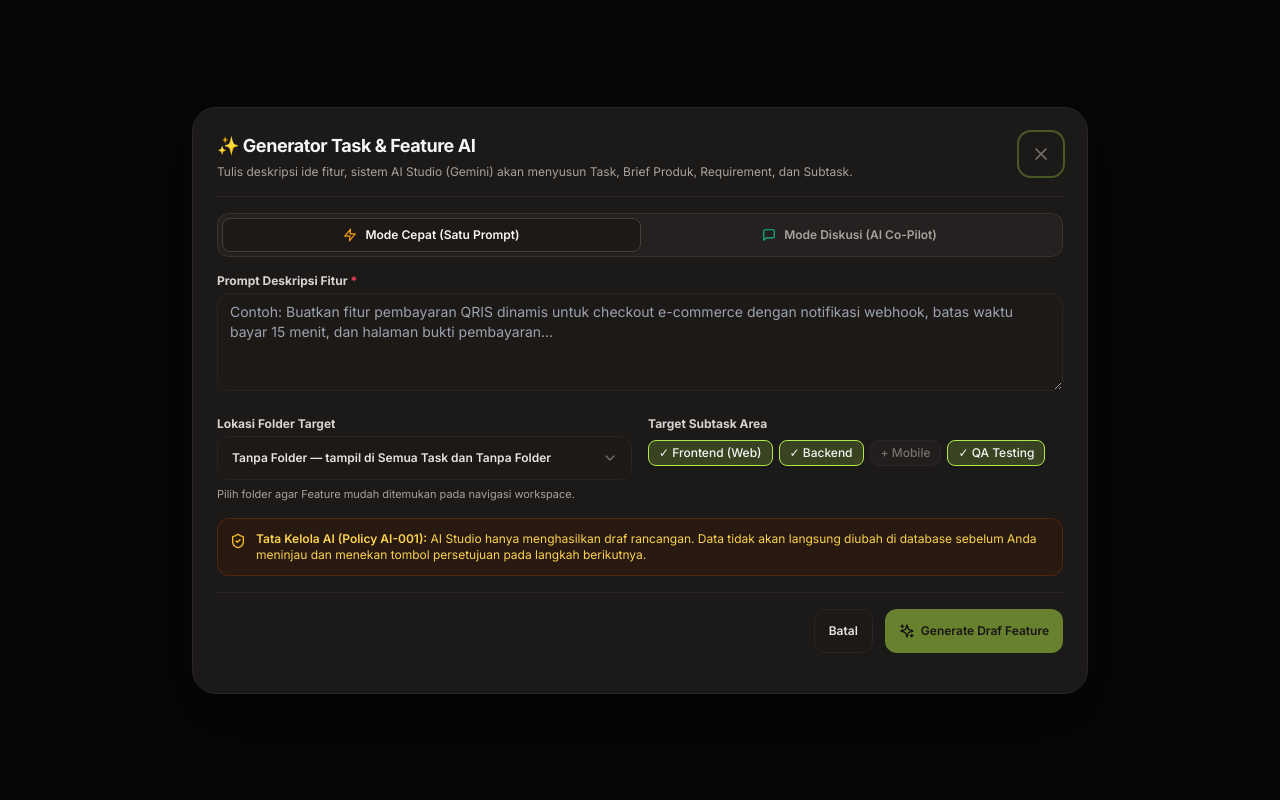
Scenario: AiTaskGeneratorModal Organism › disables apply button and shows warning banner when all subtasks are unchecked (AC-1.2)
The image size is (1280, 800).
Replace the text in the text box with placeholder "Contoh: Buatkan fitur pembayaran QRIS dinamis" with "Fitur pembayaran QRIS dinamis" at {"x": 640, "y": 342}, box left=217, top=292, right=1063, bottom=390
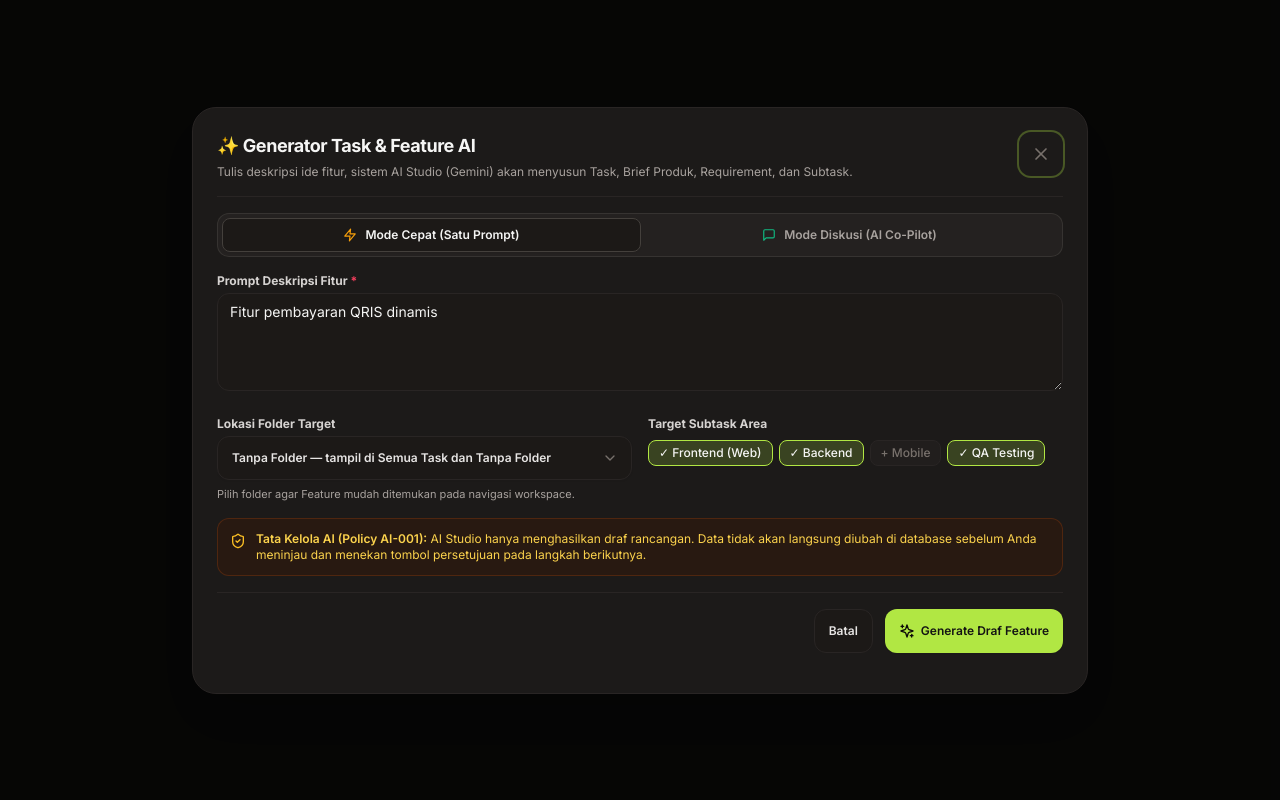
Click the button "Generate Draf Feature".
click(974, 630)  # box left=885, top=608, right=1063, bottom=652
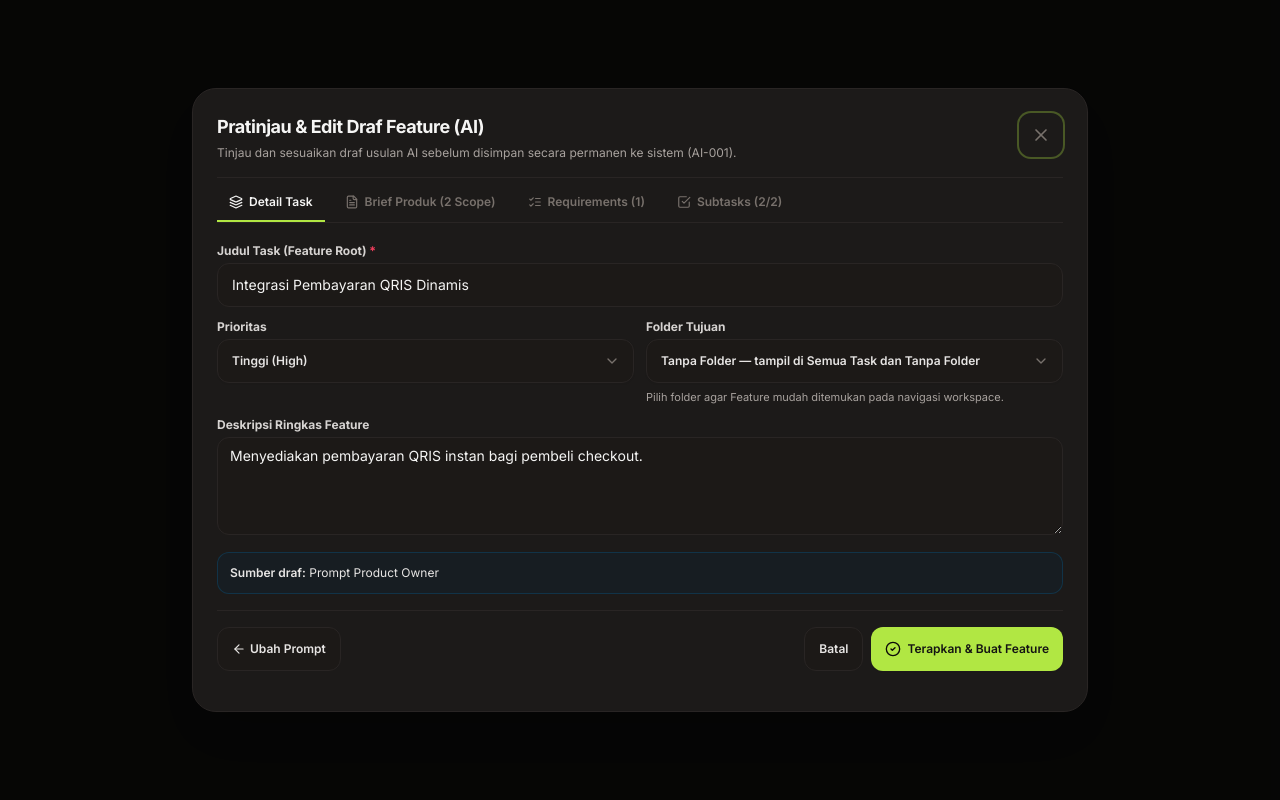
Now the heading "Pratinjau & Edit Draf Feature (AI)" is shown, box left=217, top=116, right=484, bottom=137
Note: Switch to Subtasks tab
Click the button "Subtasks (2/2)".
click(730, 208)  # box left=665, top=194, right=794, bottom=222
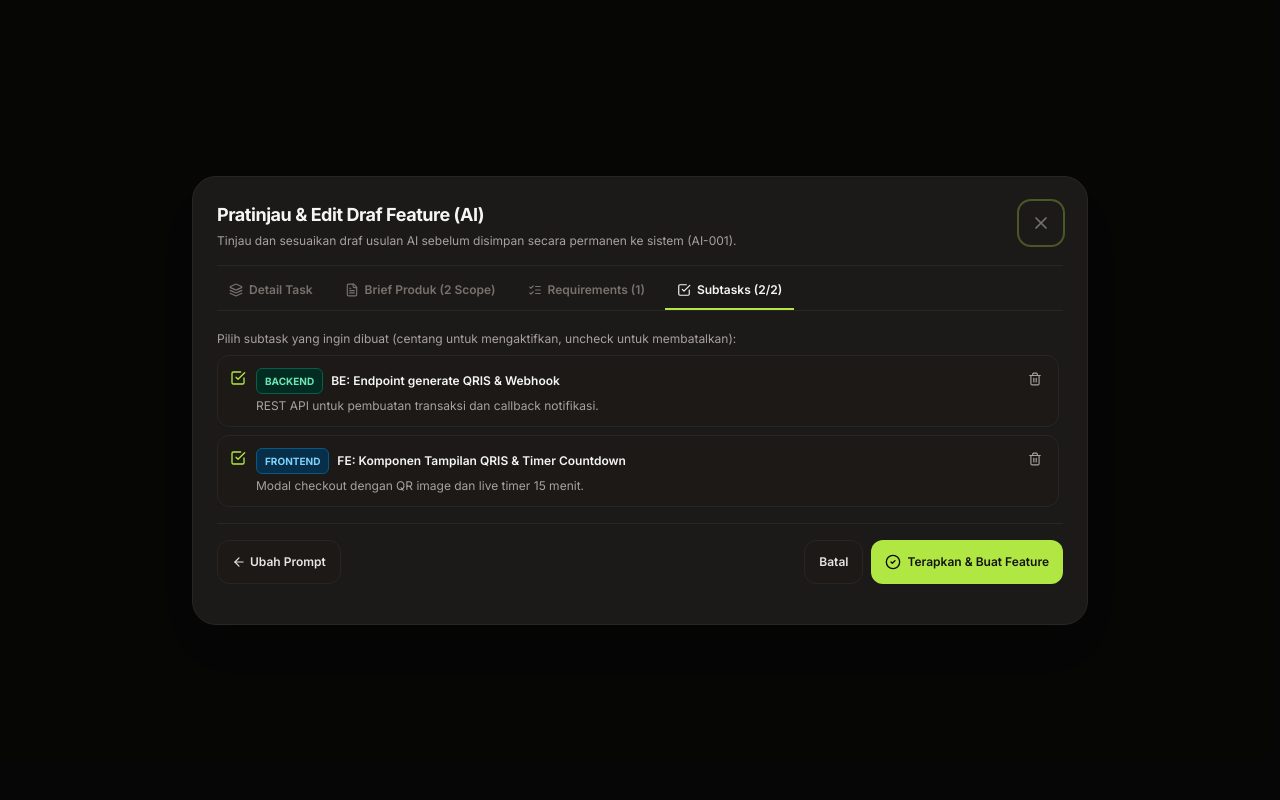
Click the button named "Toggle subtask 1".
click(238, 378)  # box left=230, top=370, right=246, bottom=386
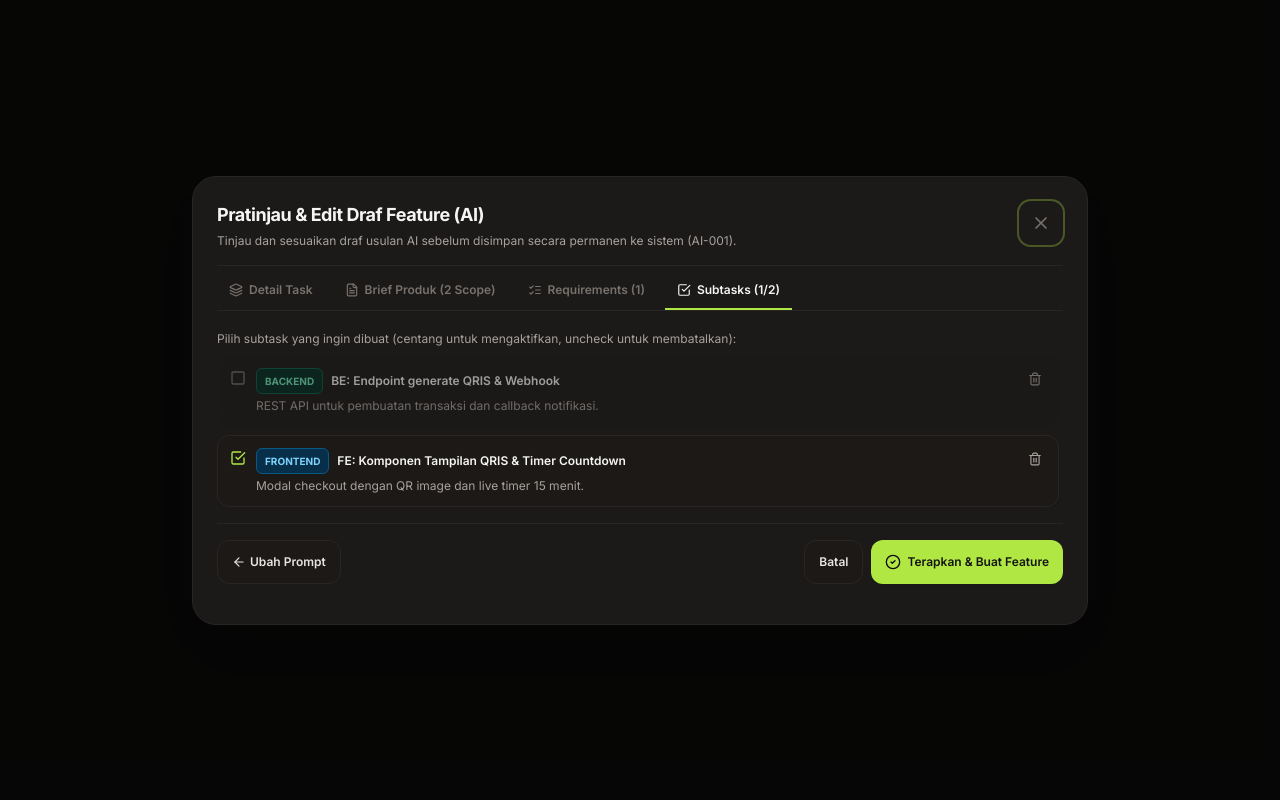
Click the button named "Toggle subtask 2".
click(238, 458)  # box left=230, top=450, right=246, bottom=466
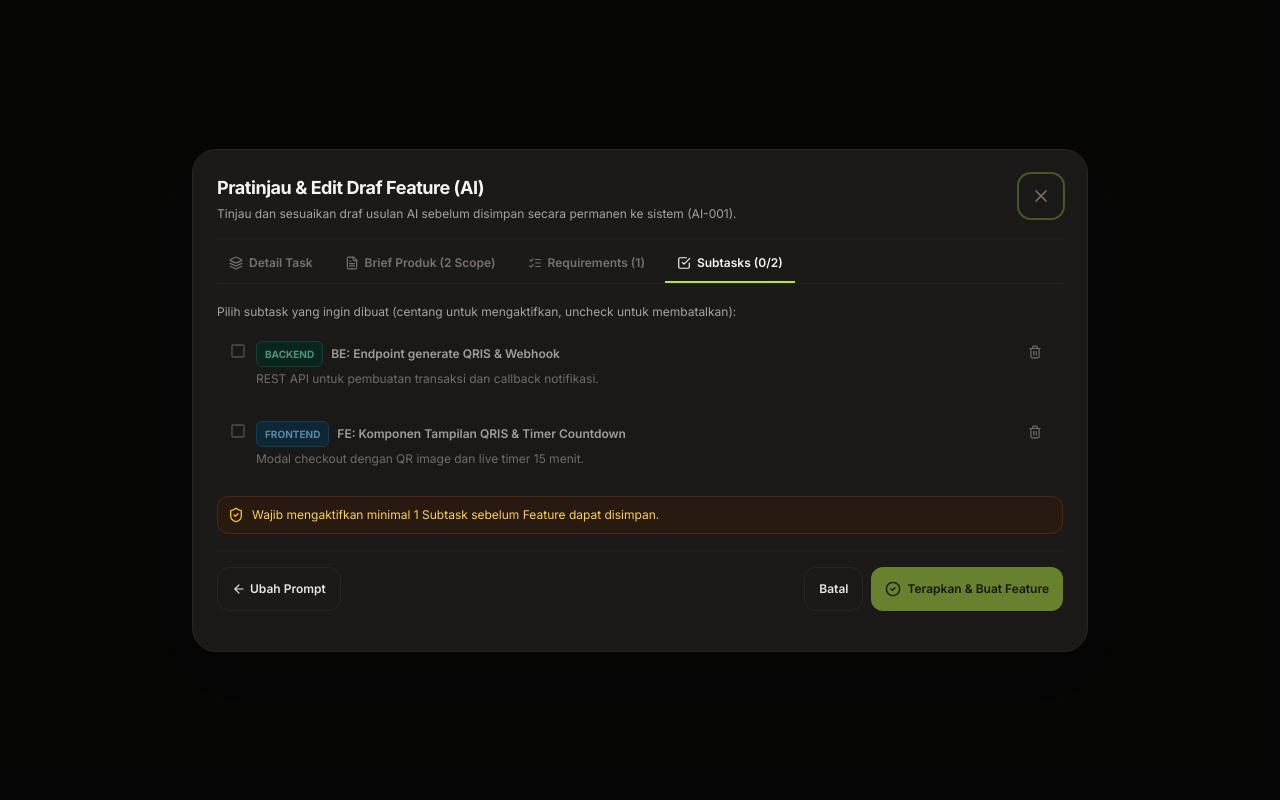
Now the text "Wajib mengaktifkan minimal 1 Subtask sebelum Feature dapat disimpan." is shown, box left=252, top=506, right=659, bottom=522
Now the button "Terapkan & Buat Feature" is disabled, box left=872, top=566, right=1063, bottom=610
